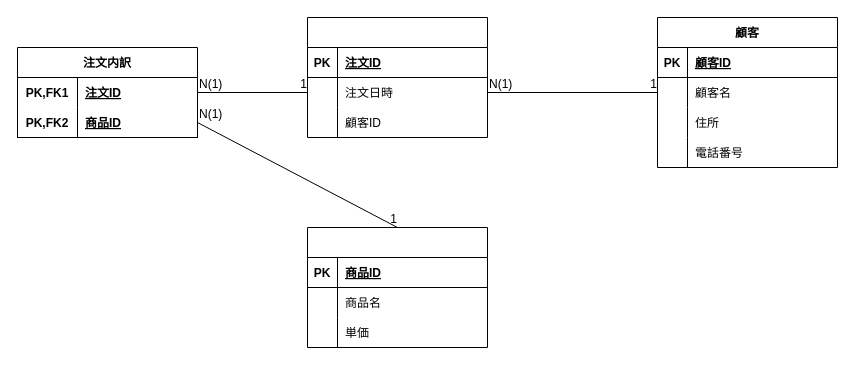
The diagram is 855 pixels wide and 365 high, and some of its shapes have lost their labels. The box of each missing label's shape, as (x1, y1, x2, y2) in pixels:
商品: (306, 226, 488, 348)
注文: (306, 16, 488, 138)
